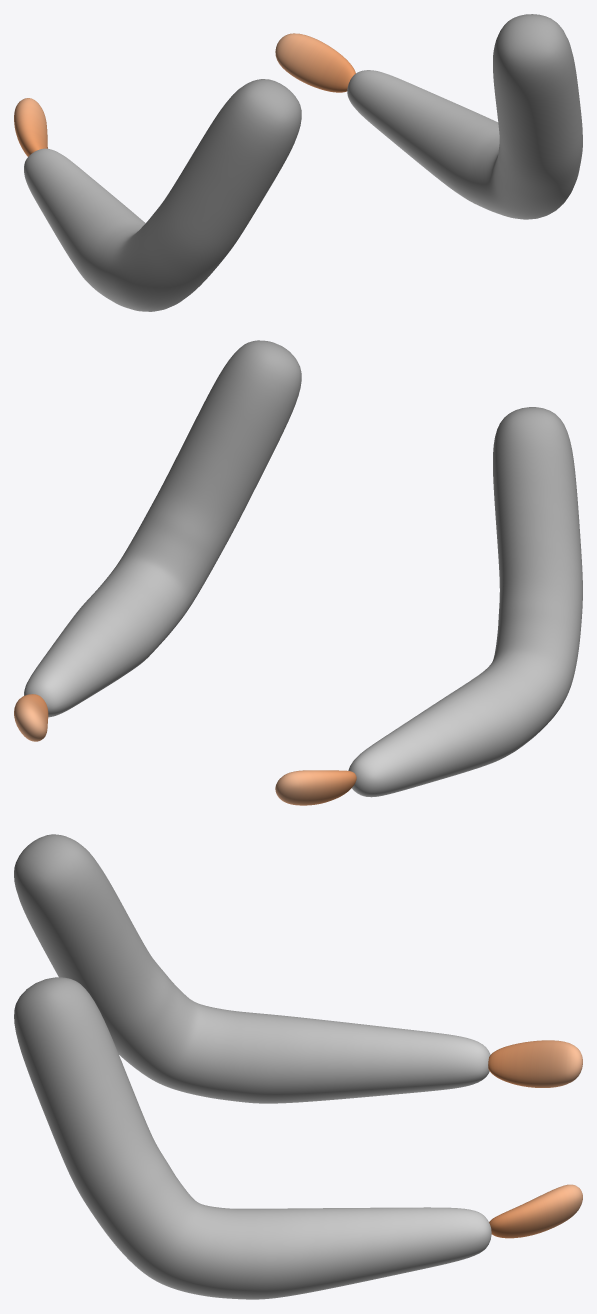
The model's file is HH_PlayerHands.fbx.
3 renders of one model, top to bottom at view 1: azimuth 30°, elevation 25°; view 2: azimuth 150°, elevation 25°; view 3: azimuth 270°, elevation 25°, orthographic. The views are drawn at different scales.
Visible parts, largest first — view 1: Arms; view 2: Arms; view 3: Arms.
Boxes of the visible parts, x1,y1,x2,y2 form: Arms: (14, 14, 582, 311); Arms: (14, 340, 582, 805); Arms: (14, 834, 582, 1299).
Bounding box in the file's own units: 130 × 73.12 × 131.
1 material, 1 textured.
